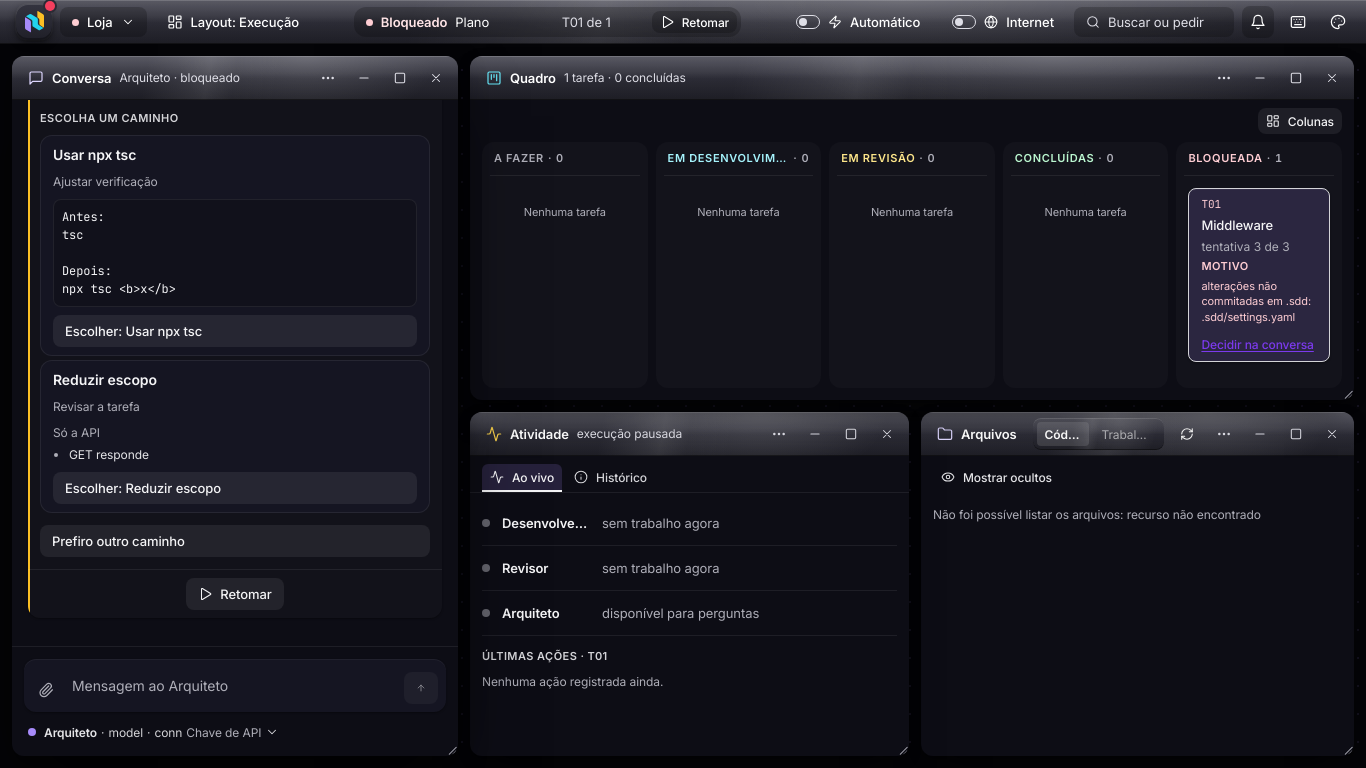
Test: Execução pausada: opções de recuperação › 409 sem reason (opção vencida) mostra a mensagem curta
(page scrolled)
Step 1. Click the button "Escolher: Reduzir escopo" → click(143, 488), box [53,472,417,504]
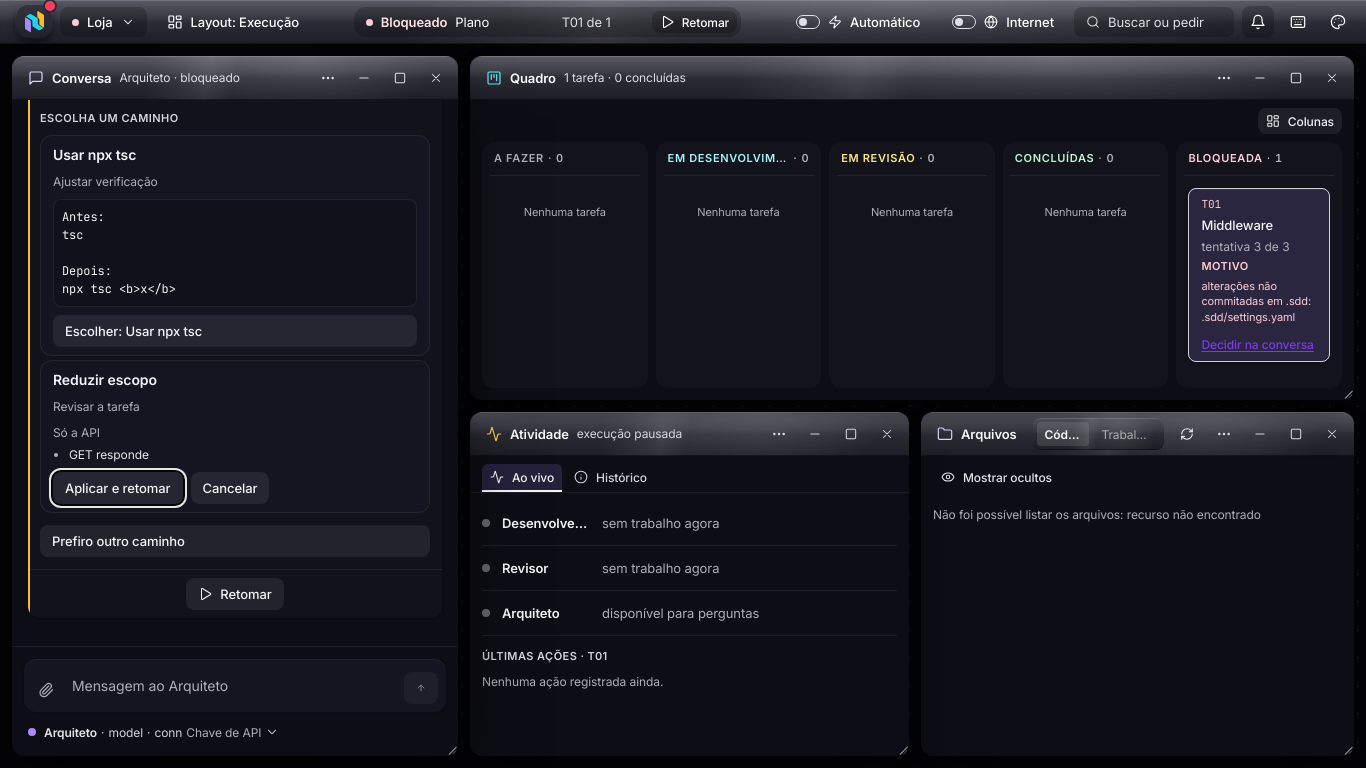
Step 2. Click the button "Aplicar e retomar" → click(118, 488), box [53,472,182,504]
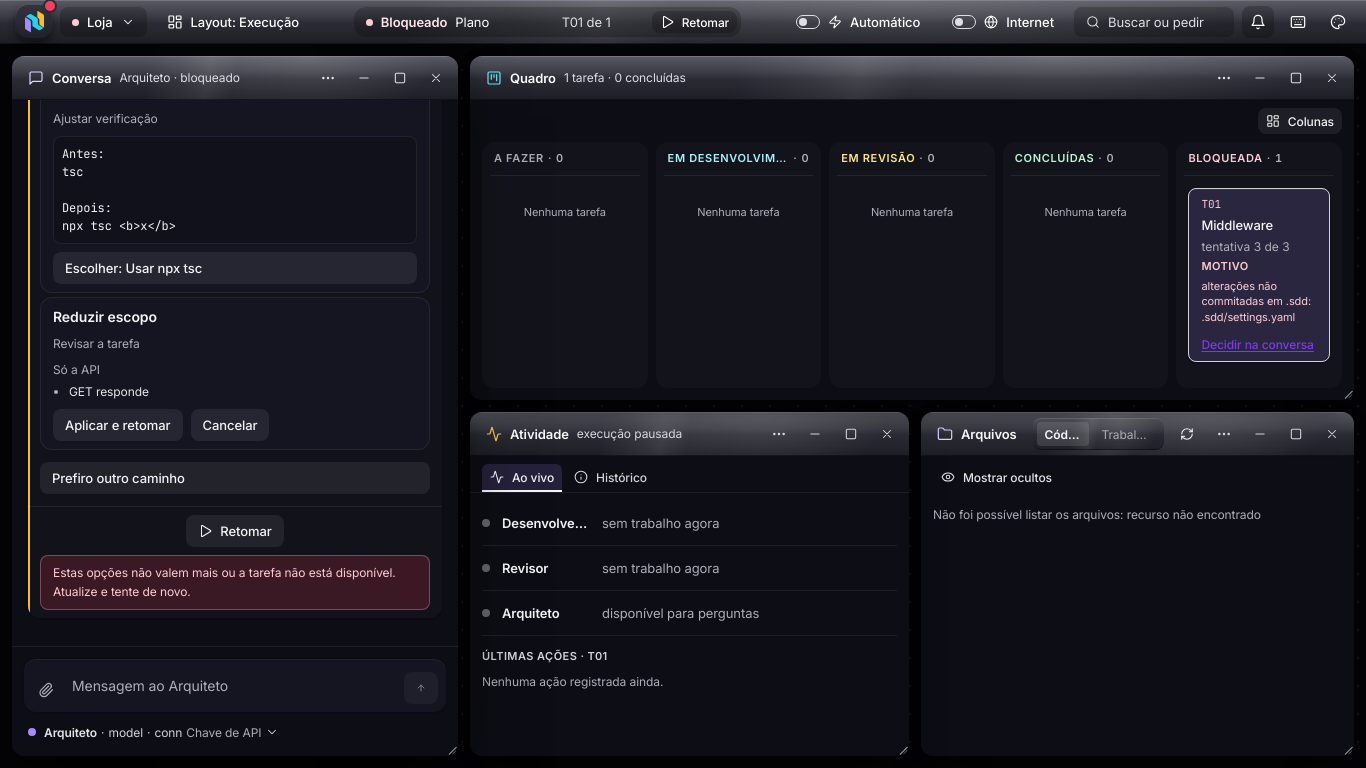
Expected: the 3rd message shows "não valem mais", [53,565,396,598]
